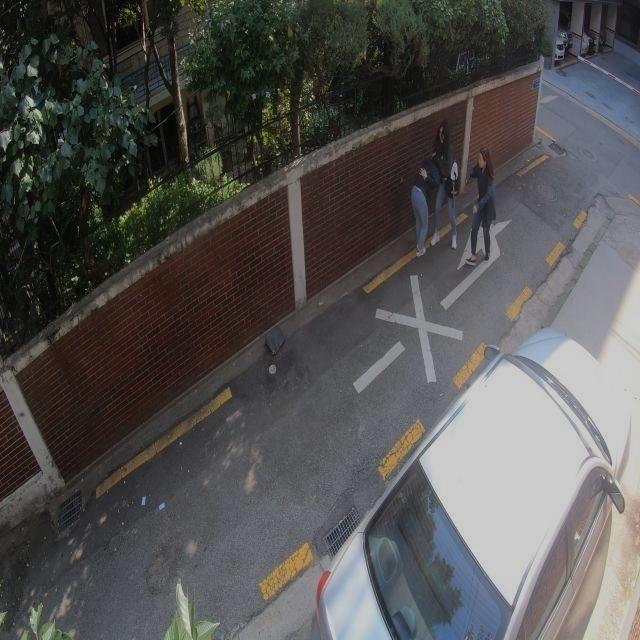fight: (406, 125, 498, 268)
